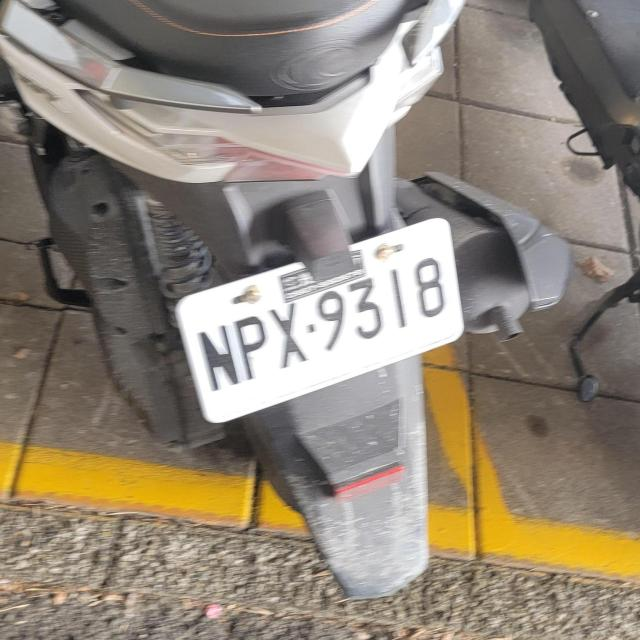W: (163, 221, 475, 425)
